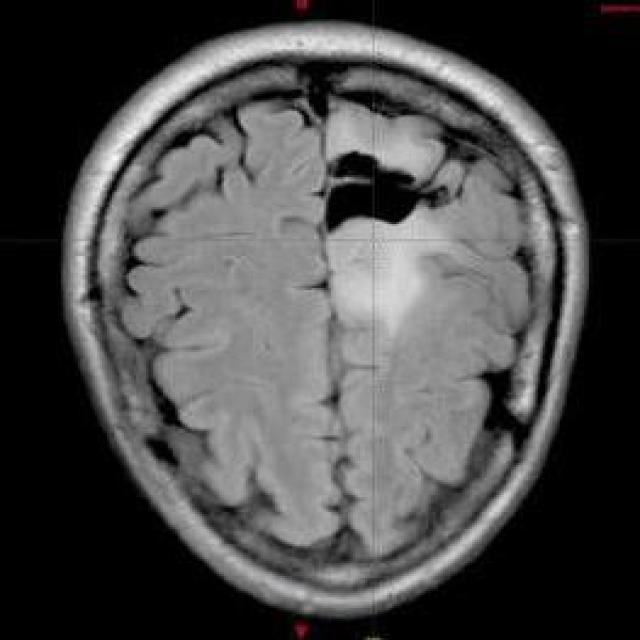brain tumor: (326, 94, 450, 333)
